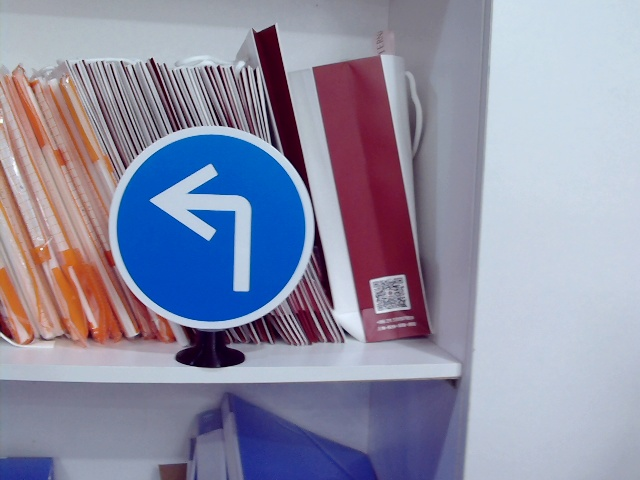turn_left: (152, 159, 254, 292)
